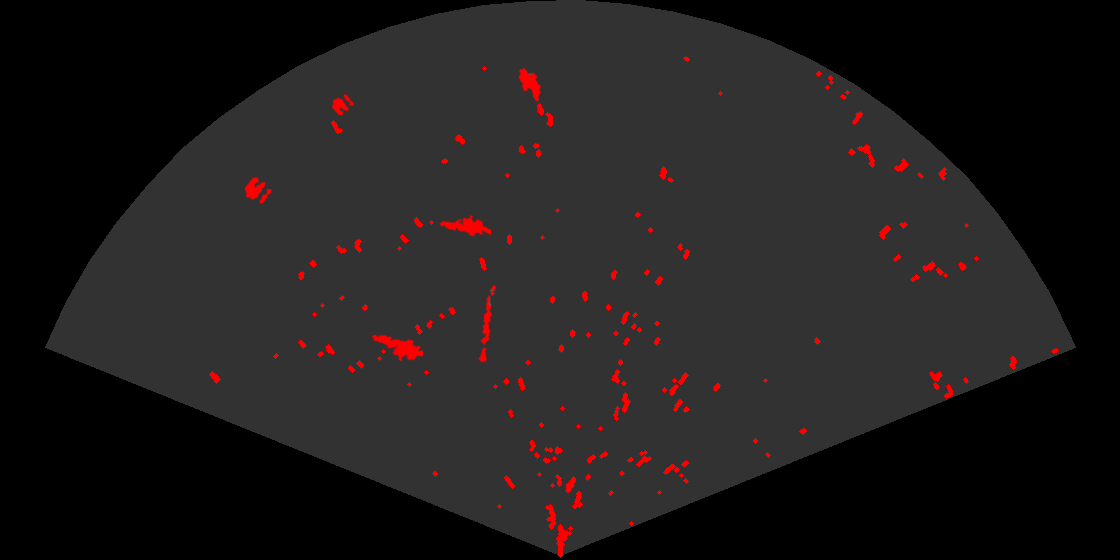AUV: (517, 66, 543, 104)
ball: (243, 175, 273, 205), (330, 92, 355, 117)
chain: (477, 283, 497, 363)
frogman: (371, 333, 423, 363), (437, 213, 491, 238)
